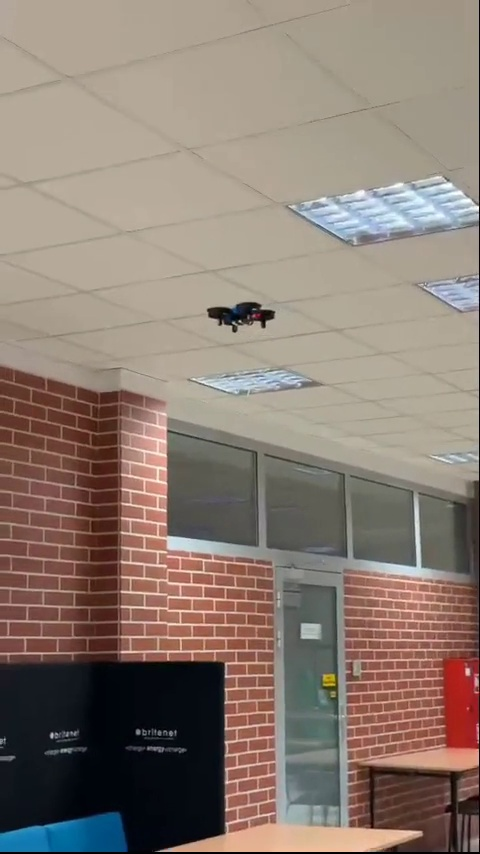drone: (203, 304, 284, 335)
